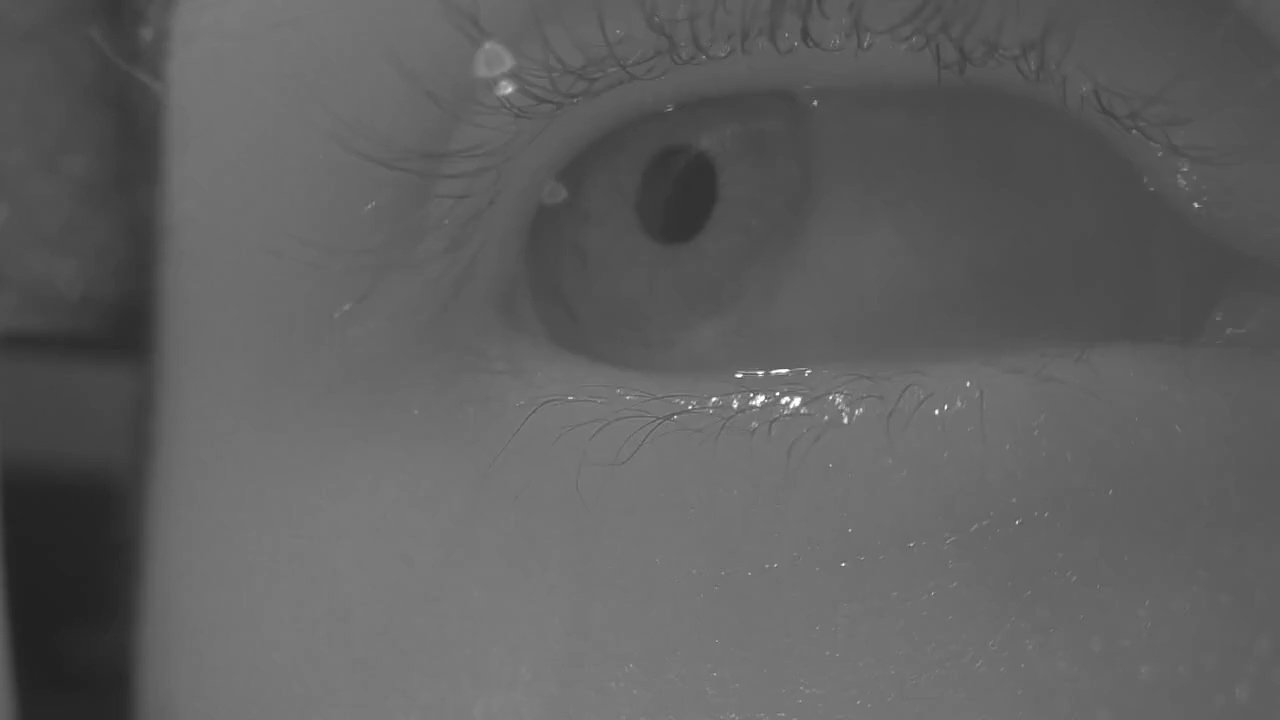pupil: (636, 144, 719, 246)
